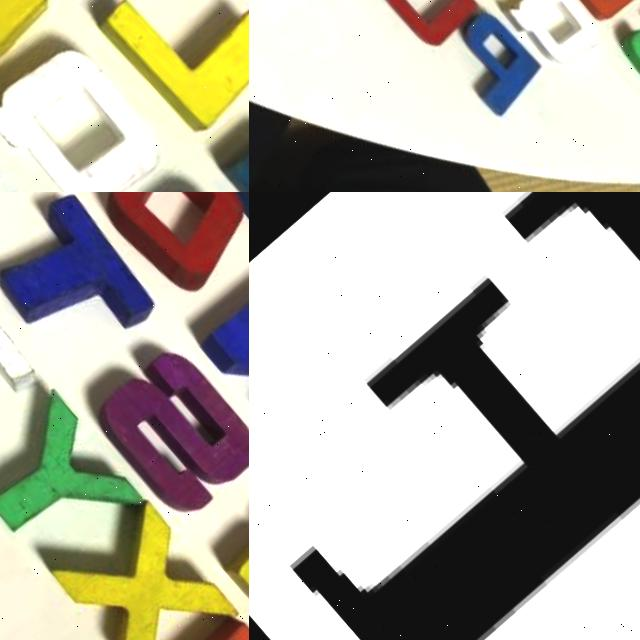C: (617, 2, 640, 107)
F: (249, 192, 640, 640)
L: (87, 0, 249, 133)
N: (198, 268, 249, 443)
O: (77, 192, 249, 297)
P: (441, 4, 552, 115)
Q: (0, 27, 176, 192), (497, 0, 610, 78)
S: (86, 334, 249, 522)
T: (0, 192, 170, 379)
U: (373, 0, 487, 52)
W: (553, 0, 640, 26)
X: (47, 492, 246, 640)
Y: (0, 390, 145, 571)
